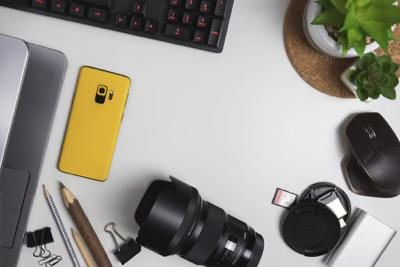cell-phone: (56, 57, 133, 188)
